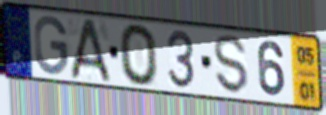3: (165, 28, 196, 91)
6: (256, 38, 288, 100)
A: (69, 18, 114, 84)
G: (32, 14, 70, 78)
O: (117, 22, 160, 89)
S: (212, 33, 250, 97)
